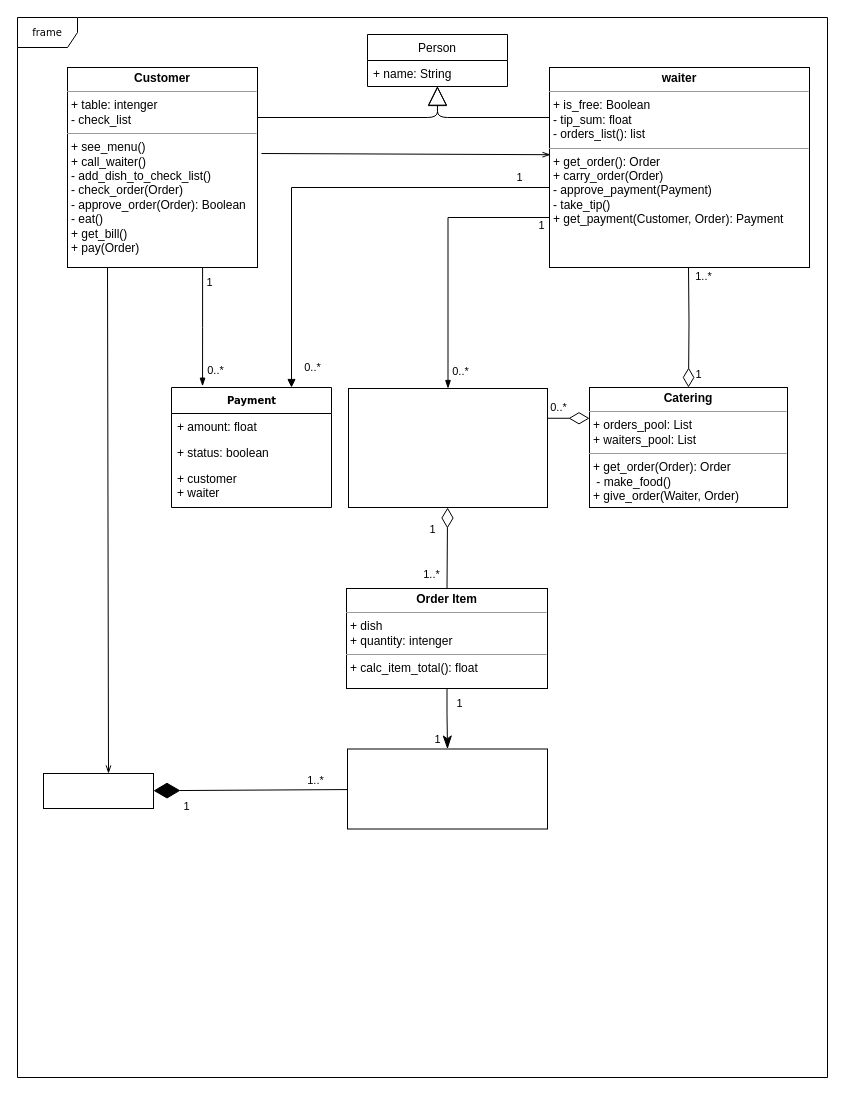
Image size: 845x1095. Some labels were removed from this diagram. The shapes that lost their labels are listed below. From the top down, each one's centre as x and y in pixels, then its label:
pixel 448 448: Order + date: date + status: integer + customer + waiter + change_status()
pixel 98 790: Menu
pixel 447 788: Dish + name: String + Price: Float
